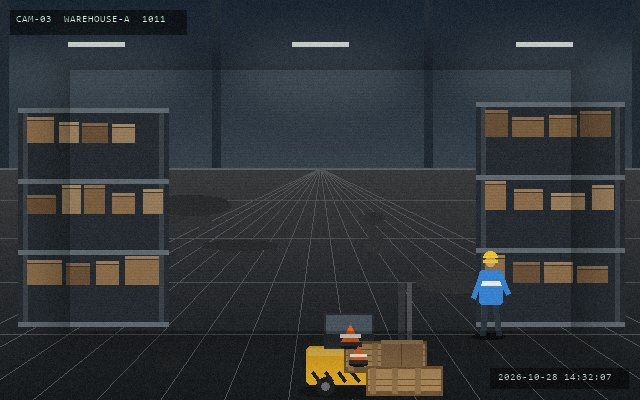cone: (338, 323, 362, 348), (348, 344, 368, 366)
forklift: (302, 281, 443, 398)
pallet: (342, 339, 428, 374), (364, 364, 444, 397)
person: (471, 249, 510, 338)
shelf: (476, 102, 624, 322), (18, 108, 168, 322)
